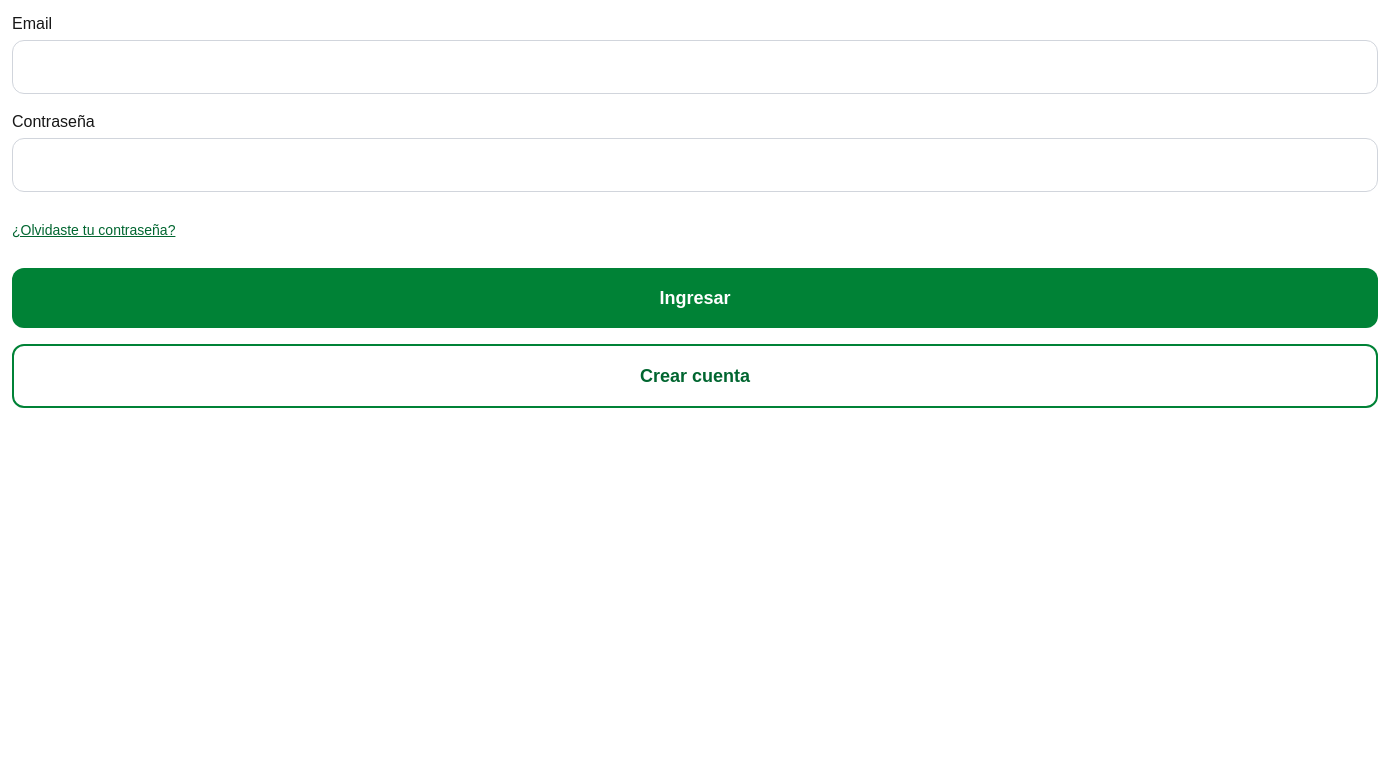
Test: LoginForm › el error de login no persiste al cambiar a modo registro
Type "a@b.com" into the field labelled "Email" at coordinates (695, 67), box top-left (12, 40), bottom-right (1378, 94)
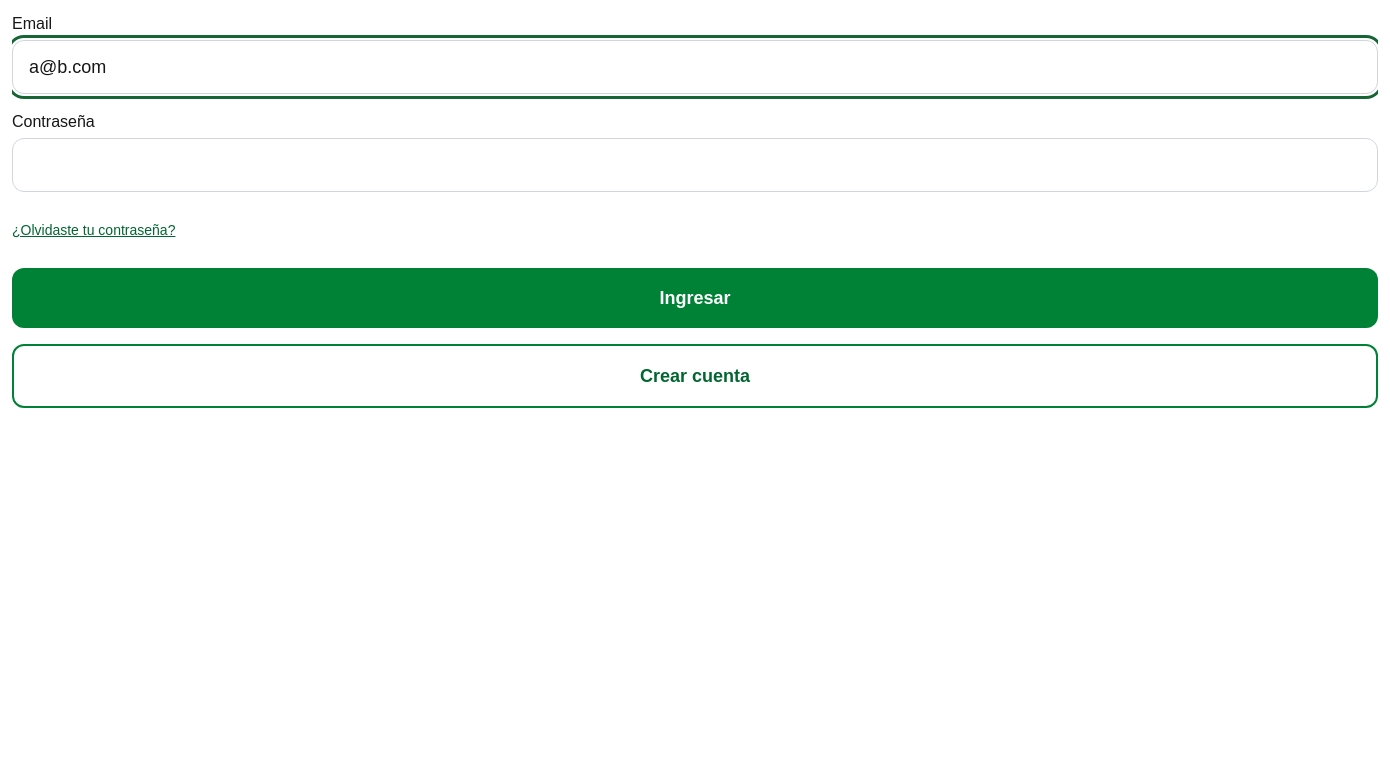
Type "12345678" into the password field labelled "Contraseña" at coordinates (695, 165), box top-left (12, 138), bottom-right (1378, 192)
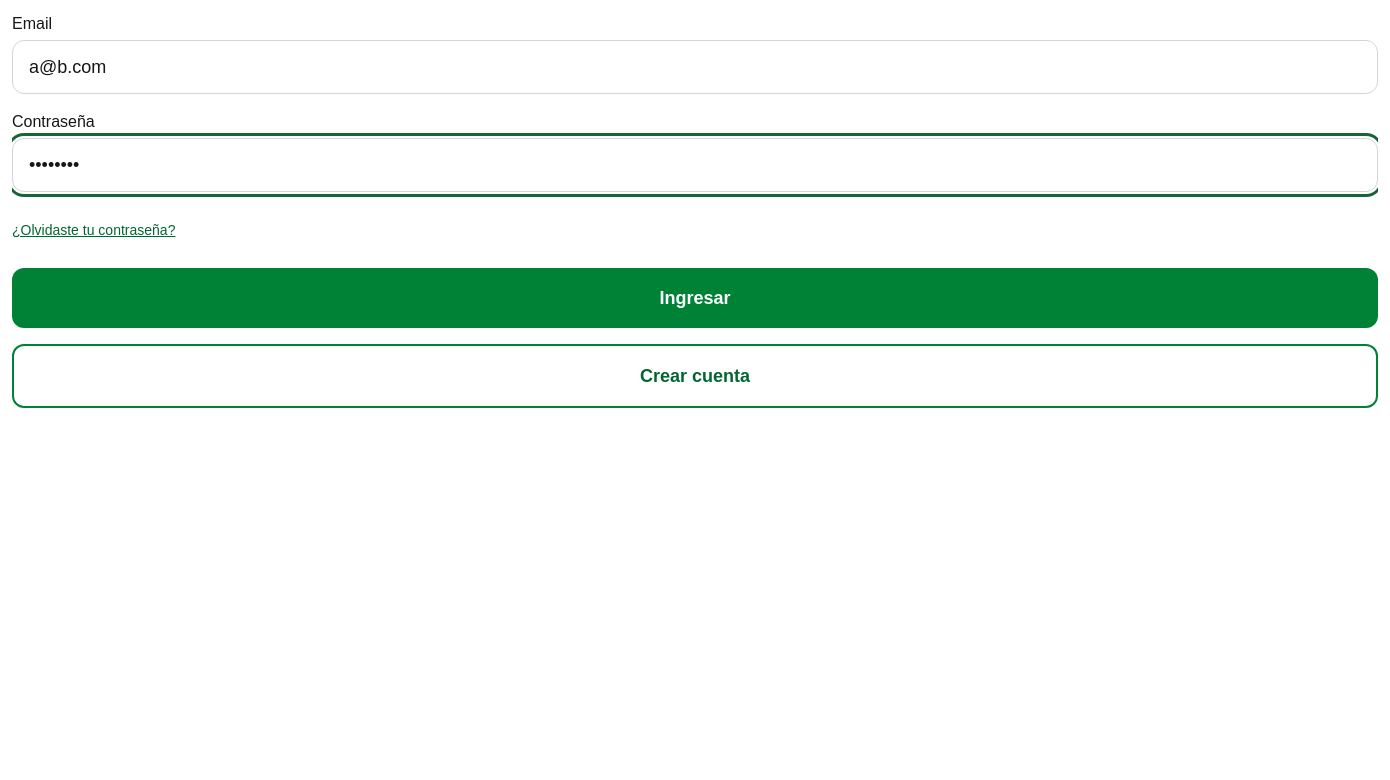
Click the button "Ingresar" at coordinates (695, 298), box top-left (12, 268), bottom-right (1378, 328)
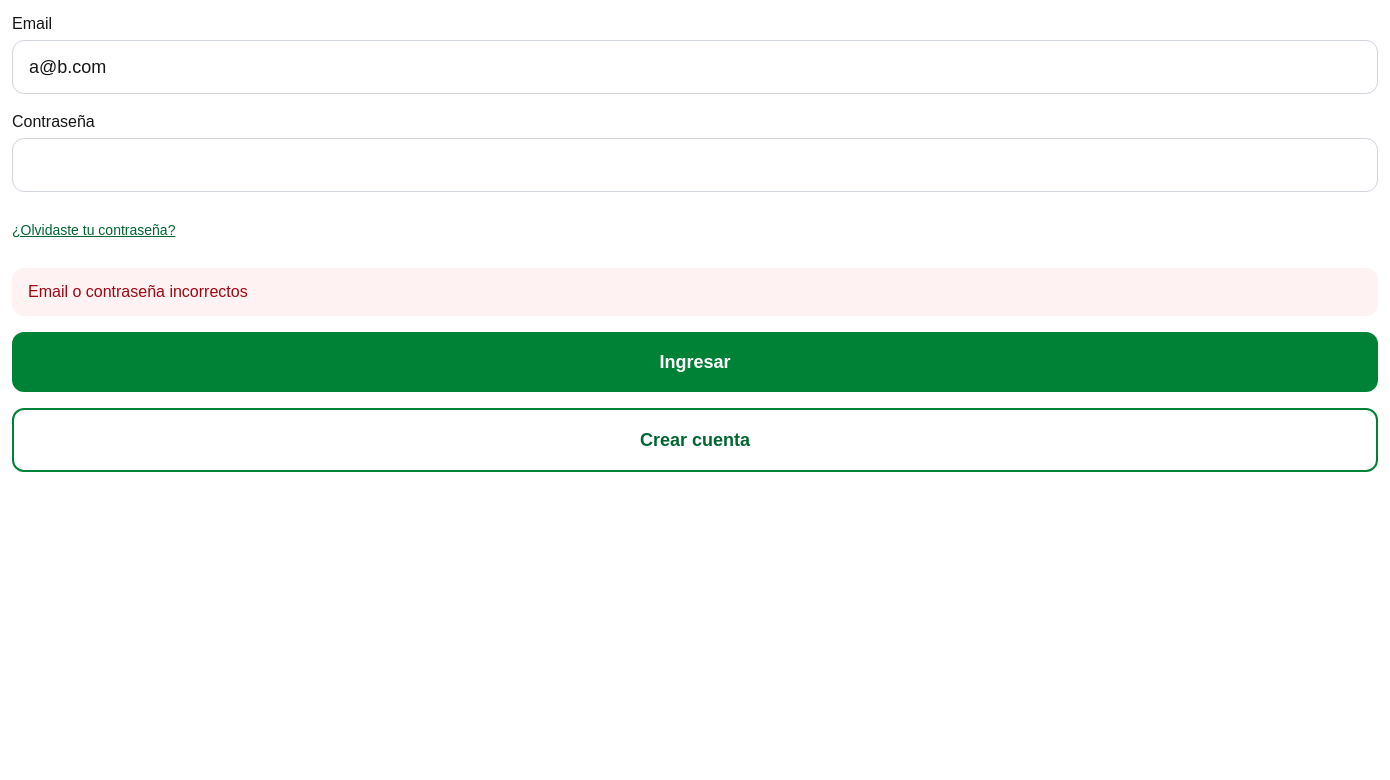
expect the message "Email o contraseña incorrectos" is shown: met, box top-left (12, 268), bottom-right (1378, 316)
Click the button "Crear cuenta" at coordinates (695, 440), box top-left (12, 408), bottom-right (1378, 472)
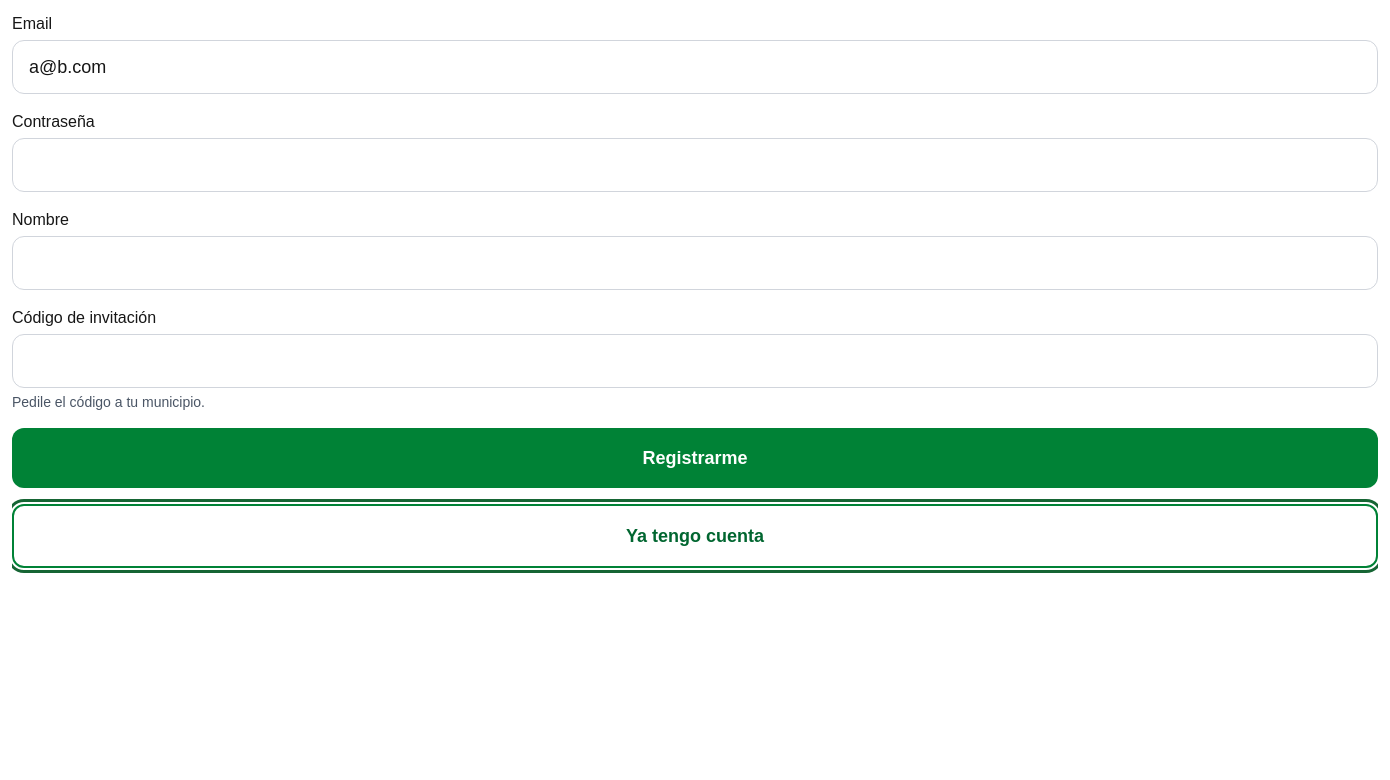
expect the message "Email o contraseña incorrectos" is gone: met
